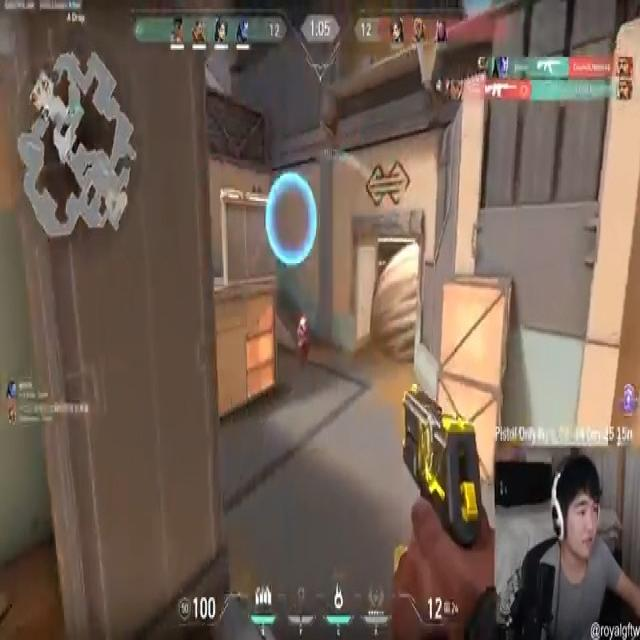enemy: (296, 318, 308, 369)
